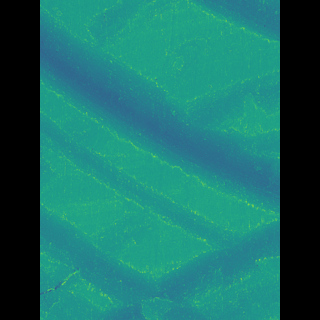Loch: (69, 5, 250, 219), (69, 108, 219, 259), (114, 219, 250, 320)
